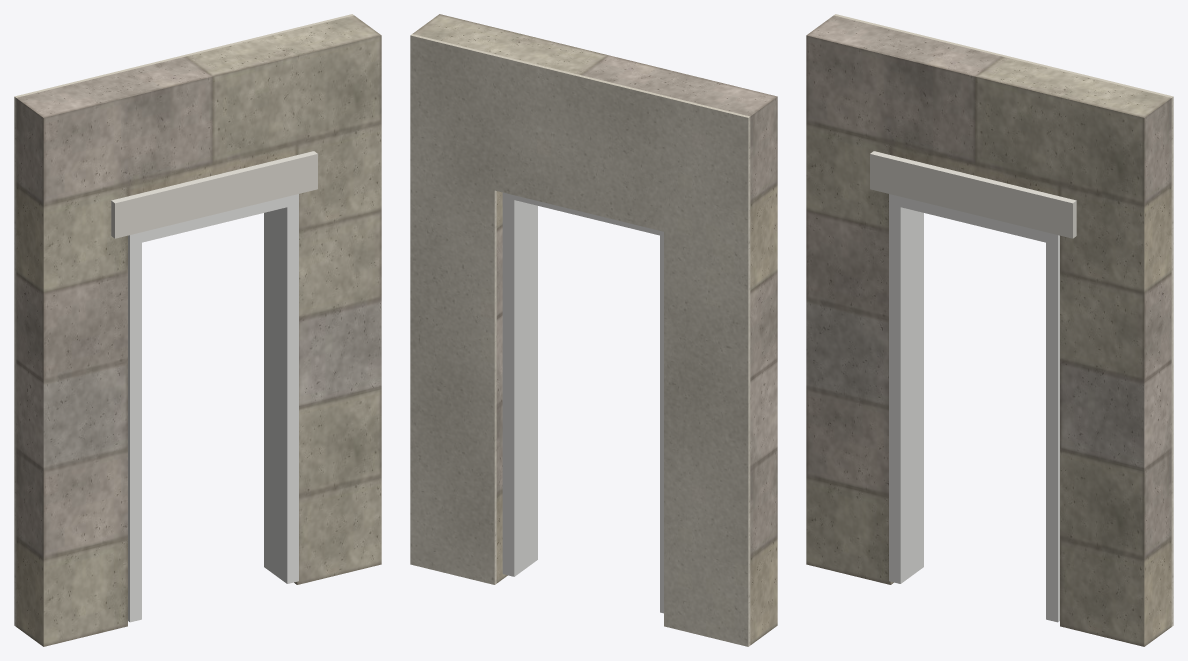
Rendered from wall_b2_backdoor.glb.
The picture shows the model from 3 angles, left to right: view 1: azimuth 30°, elevation 25°; view 2: azimuth 150°, elevation 25°; view 3: azimuth 330°, elevation 25°; orthographic projection.
Visible parts, largest first — view 1: wall_b2_backdoor_grey, wall_b2_backdoor_frame, wall_b2_backdoor_lime, wall_b2_backdoor_plaster; view 2: wall_b2_backdoor_plaster, wall_b2_backdoor_grey, wall_b2_backdoor_frame; view 3: wall_b2_backdoor_grey, wall_b2_backdoor_frame, wall_b2_backdoor_lime, wall_b2_backdoor_plaster.
Part boxes in pixels (x1,y1,x2,y2): wall_b2_backdoor_grey: (16, 15, 381, 646); wall_b2_backdoor_frame: (128, 194, 298, 622); wall_b2_backdoor_lime: (111, 151, 317, 238); wall_b2_backdoor_plaster: (14, 14, 353, 626); wall_b2_backdoor_plaster: (410, 34, 750, 646); wall_b2_backdoor_grey: (412, 14, 777, 645); wall_b2_backdoor_frame: (502, 192, 663, 613); wall_b2_backdoor_grey: (806, 15, 1171, 646); wall_b2_backdoor_frame: (889, 194, 1059, 622); wall_b2_backdoor_lime: (870, 151, 1076, 238); wall_b2_backdoor_plaster: (834, 14, 1173, 626).
Size of the model in its own units: 2 by 2.99 by 0.34.
Materials: 4 (2 with a texture image).
